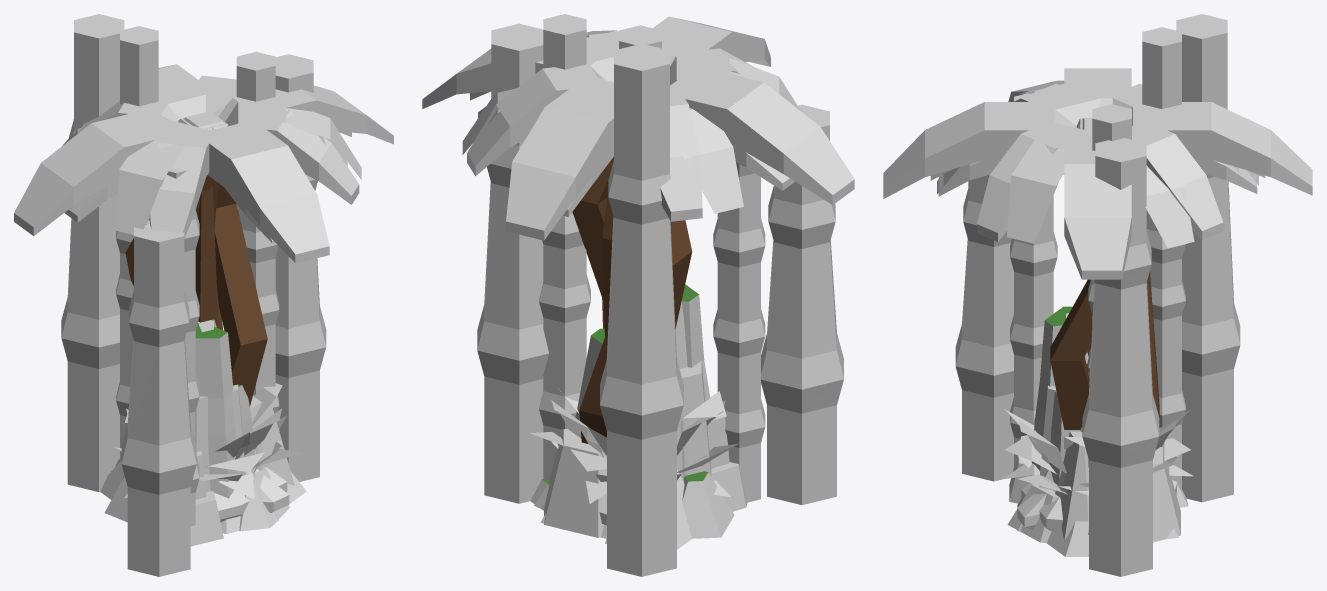
File: china.glb
The picture shows the model from 3 angles, left to right: view 1: azimuth 30°, elevation 25°; view 2: azimuth 150°, elevation 25°; view 3: azimuth 270°, elevation 25°; orthographic projection. The views are drawn at different scales.
Visible parts, largest first — view 1: crops_bambooStageA, tree_palmShort, tree_palmBend, crops_bambooStageB, tree_palmDetailedTall, rock_tallA, stone_tallB, tree_palm, tree_palmTall, plant_bush, rock_largeC, plant_bushLarge (+2 smaller); view 2: crops_bambooStageA, tree_palmShort, crops_bambooStageB, tree_palmDetailedTall, stone_tallB, tree_palmBend, rock_tallA, tree_palmTall, tree_palm, plant_bush, plant_bushLarge, rock_tallC (+1 smaller); view 3: crops_bambooStageA, tree_palmShort, crops_bambooStageB, tree_palmBend, tree_palmDetailedTall, stone_tallB, rock_tallA, tree_palm, tree_palmTall, plant_bushLarge, plant_bush, rock_largeC (+1 smaller).
Part boxes in pixels (x1=…): crops_bambooStageA: x1=61, y1=14, x2=326, y2=576; tree_palmShort: x1=14, y1=64, x2=393, y2=285; tree_palmBend: x1=71, y1=76, x2=361, y2=406; crops_bambooStageB: x1=116, y1=26, x2=279, y2=526; tree_palmDetailedTall: x1=62, y1=75, x2=359, y2=242; rock_tallA: x1=104, y1=323, x2=306, y2=522; stone_tallB: x1=115, y1=320, x2=294, y2=546; tree_palm: x1=145, y1=87, x2=347, y2=328; tree_palmTall: x1=71, y1=75, x2=351, y2=329; plant_bush: x1=125, y1=383, x2=282, y2=472; rock_largeC: x1=214, y1=467, x2=287, y2=521; plant_bushLarge: x1=126, y1=408, x2=281, y2=481; crops_bambooStageA: x1=477, y1=23, x2=843, y2=576; tree_palmShort: x1=422, y1=16, x2=854, y2=443; crops_bambooStageB: x1=539, y1=14, x2=765, y2=502; tree_palmDetailedTall: x1=467, y1=33, x2=794, y2=221; stone_tallB: x1=544, y1=300, x2=747, y2=543; tree_palmBend: x1=462, y1=30, x2=801, y2=328; rock_tallA: x1=530, y1=284, x2=734, y2=538; tree_palmTall: x1=470, y1=28, x2=735, y2=336; tree_palm: x1=575, y1=34, x2=721, y2=103; plant_bush: x1=560, y1=391, x2=726, y2=471; plant_bushLarge: x1=551, y1=400, x2=725, y2=481; rock_tallC: x1=575, y1=328, x2=677, y2=420; crops_bambooStageA: x1=955, y1=14, x2=1240, y2=576; tree_palmShort: x1=883, y1=68, x2=1312, y2=422; crops_bambooStageB: x1=1010, y1=27, x2=1185, y2=491; tree_palmBend: x1=937, y1=80, x2=1258, y2=429; tree_palmDetailedTall: x1=938, y1=83, x2=1257, y2=241; stone_tallB: x1=1007, y1=313, x2=1188, y2=543; rock_tallA: x1=1030, y1=306, x2=1154, y2=556; tree_palm: x1=1018, y1=83, x2=1238, y2=355; tree_palmTall: x1=930, y1=86, x2=1265, y2=372; plant_bushLarge: x1=1018, y1=419, x2=1177, y2=495; plant_bush: x1=1005, y1=435, x2=1190, y2=473; rock_largeC: x1=1021, y1=475, x2=1172, y2=530.
Size of the model in its own units: 1.86 by 2.2 by 1.86.
